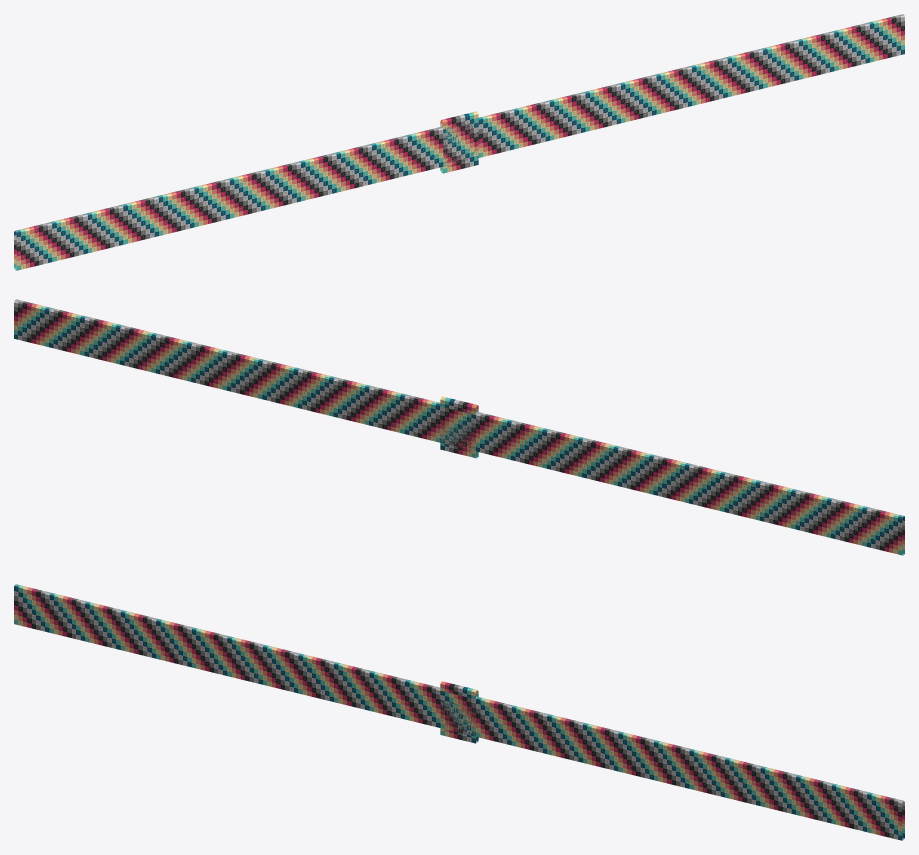
The model's file is 230707_bigPlain_manualMorph.glb.
3 views of the same model, one above another, from view 1: azimuth 30°, elevation 25°; view 2: azimuth 150°, elevation 25°; view 3: azimuth 330°, elevation 25° (orthographic).
Visible parts, largest first — view 1: bigPlainMaxWidth, bigPlainMaxHeight; view 2: bigPlainMaxWidth, bigPlainMin, bigPlainMaxHeight; view 3: bigPlainMaxWidth, bigPlainMaxHeight.
Boxes of the visible parts, x1=… form: bigPlainMaxWidth: x1=14, y1=14, x2=904, y2=270; bigPlainMaxHeight: x1=440, y1=111, x2=478, y2=173; bigPlainMaxWidth: x1=14, y1=299, x2=904, y2=555; bigPlainMin: x1=440, y1=406, x2=477, y2=451; bigPlainMaxHeight: x1=440, y1=396, x2=478, y2=458; bigPlainMaxWidth: x1=14, y1=584, x2=904, y2=840; bigPlainMaxHeight: x1=440, y1=681, x2=478, y2=743.
Size of the model in its own units: 7.5 by 0.42 by 0.04.
1 material, 1 textured.
